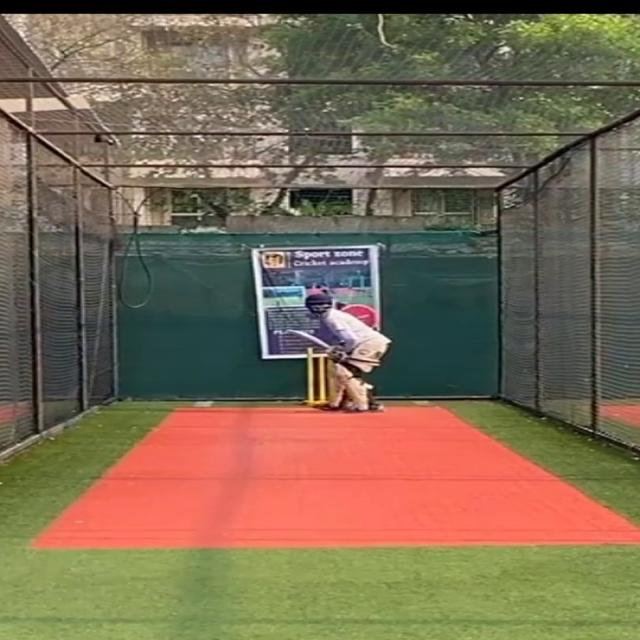stump: (300, 345, 328, 403)
